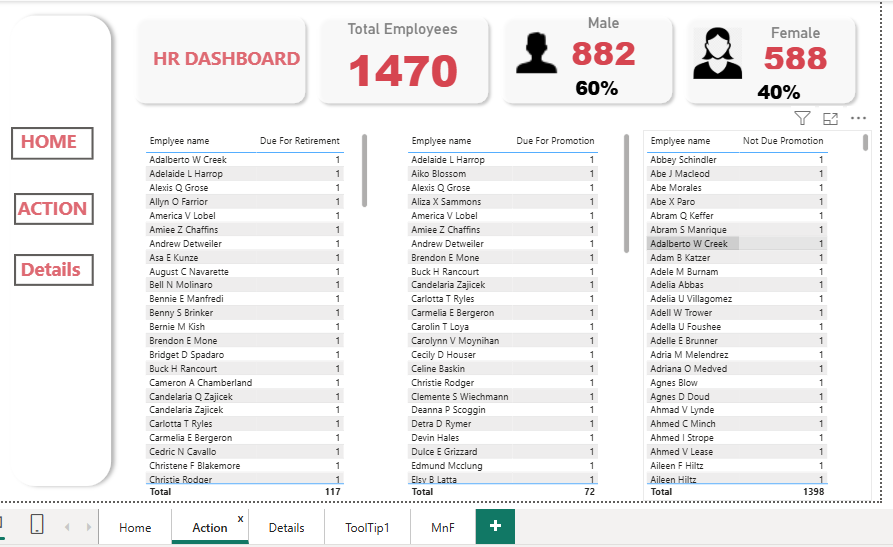

What the dashboard file says about the page in this screenshot:
{"tool":"powerbi","page":{"name":"Action","canvas":[1280,720],"ordinal":1},"visuals":[{"type":"shape","box":[16.5,9.6,166.5,699.2],"z":0},{"type":"shape","box":[195.4,12.4,264.3,143.1],"z":1000},{"type":"shape","box":[459.7,12.4,264.3,143.1],"z":2000},{"type":"shape","box":[724,12.4,264.3,143.1],"z":3000},{"type":"shape","box":[988.2,12.4,264.3,143.1],"z":4000},{"type":"image","box":[1004.7,33,79.8,84],"z":5000},{"type":"image","box":[736.3,26.2,95,90.8],"z":6000},{"type":"card","title":"Total Employees","fields":{"Values":["All Measures.Total Employee"]},"box":[468,27.5,246.4,112.9],"z":7000},{"type":"card","title":"Male","fields":{"Values":["All Measures.Male"]},"box":[757.5,18.7,246.8,84.3],"z":8000},{"type":"card","title":"Female","fields":{"Values":["All Measures.Female"]},"box":[1033.9,32.8,246.8,70.3],"z":9000},{"type":"card","fields":{"Values":["All Measures.Male %"]},"box":[784,95.3,174.9,60.9],"z":10000},{"type":"card","fields":{"Values":["All Measures.Female %"]},"box":[1049.6,103.1,167.1,56.2],"z":11000},{"type":"textbox","box":[216.2,58.1,243.2,66.2],"z":12000},{"type":"textbox","box":[17.2,176.5,128.1,70.3],"z":13000},{"type":"textbox","box":[35.9,274.9,128.1,70.3],"z":14000},{"type":"tableEx","fields":{"Values":["HR Analytics Data.Emplyee name","All Measures.Due For Retirement"]},"box":[216.2,186.5,329.7,533.7],"z":15000},{"type":"tableEx","fields":{"Values":["HR Analytics Data.Emplyee name","All Measures.Due For Promotion"]},"box":[593.2,186.5,329.7,533.7],"z":16000},{"type":"tableEx","fields":{"Values":["HR Analytics Data.Emplyee name","All Measures.Not Due Promotion"]},"box":[937.7,186.5,329.7,533.7],"z":17000},{"type":"textbox","box":[27,274.3,118.9,70.3],"z":17001},{"type":"textbox","box":[24.3,360.8,118.9,70.3],"z":17002},{"type":"actionButton","box":[31.1,277,114.8,45.9],"z":17003},{"type":"actionButton","box":[27,181.1,118.9,47.3],"z":17004},{"type":"actionButton","box":[31.1,364.8,114.8,45.9],"z":17005}]}

Visuals, with their boxes on the page's 1280x720 design canvas (x1, y1, x2, y2). These are canvas units, not pixel positions in the 893x547 screenshot, which may show the page scaled, cropped or inside an application window:
shape: [x1=16, y1=10, x2=183, y2=709]
shape: [x1=195, y1=12, x2=460, y2=156]
shape: [x1=460, y1=12, x2=724, y2=156]
shape: [x1=724, y1=12, x2=988, y2=156]
shape: [x1=988, y1=12, x2=1252, y2=156]
image: [x1=1005, y1=33, x2=1084, y2=117]
image: [x1=736, y1=26, x2=831, y2=117]
"Total Employees" card: [x1=468, y1=28, x2=714, y2=140]
"Male" card: [x1=758, y1=19, x2=1004, y2=103]
"Female" card: [x1=1034, y1=33, x2=1281, y2=103]
card - All Measures.Male %: [x1=784, y1=95, x2=959, y2=156]
card - All Measures.Female %: [x1=1050, y1=103, x2=1217, y2=159]
textbox: [x1=216, y1=58, x2=459, y2=124]
textbox: [x1=17, y1=176, x2=145, y2=247]
textbox: [x1=36, y1=275, x2=164, y2=345]
tableEx - HR Analytics Data.Emplyee name x All Measures.Due For Retirement: [x1=216, y1=186, x2=546, y2=720]
tableEx - HR Analytics Data.Emplyee name x All Measures.Due For Promotion: [x1=593, y1=186, x2=923, y2=720]
tableEx - HR Analytics Data.Emplyee name x All Measures.Not Due Promotion: [x1=938, y1=186, x2=1267, y2=720]
textbox: [x1=27, y1=274, x2=146, y2=345]
textbox: [x1=24, y1=361, x2=143, y2=431]
actionButton: [x1=31, y1=277, x2=146, y2=323]
actionButton: [x1=27, y1=181, x2=146, y2=228]
actionButton: [x1=31, y1=365, x2=146, y2=411]
